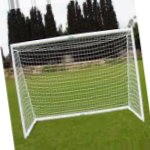goals: (9, 27, 147, 139)
